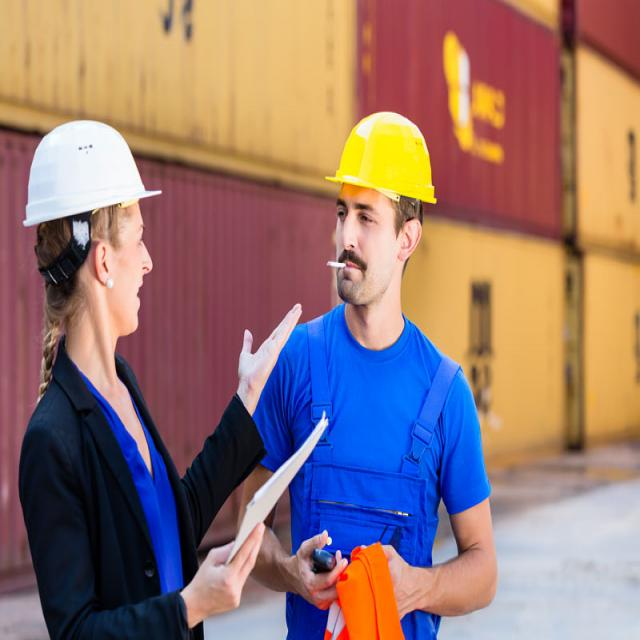smoking: (326, 260, 348, 270)
